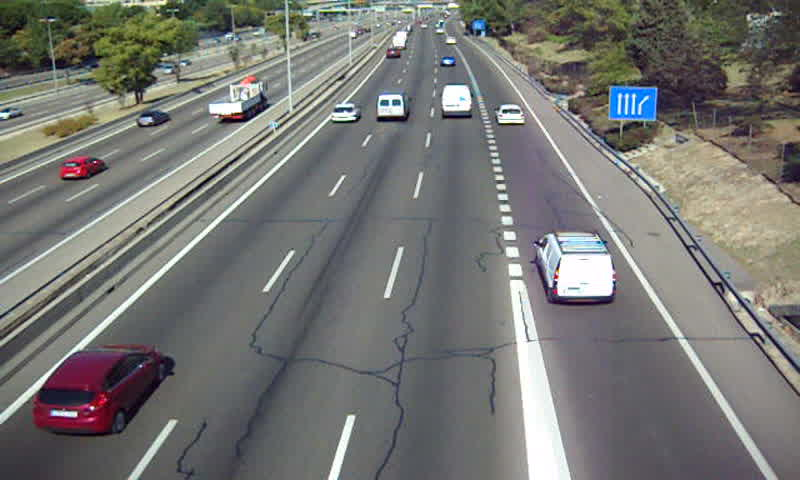car: (32, 344, 164, 437), (329, 103, 361, 125), (494, 103, 524, 124)
van: (533, 232, 616, 304), (442, 86, 473, 118), (377, 91, 413, 118)
